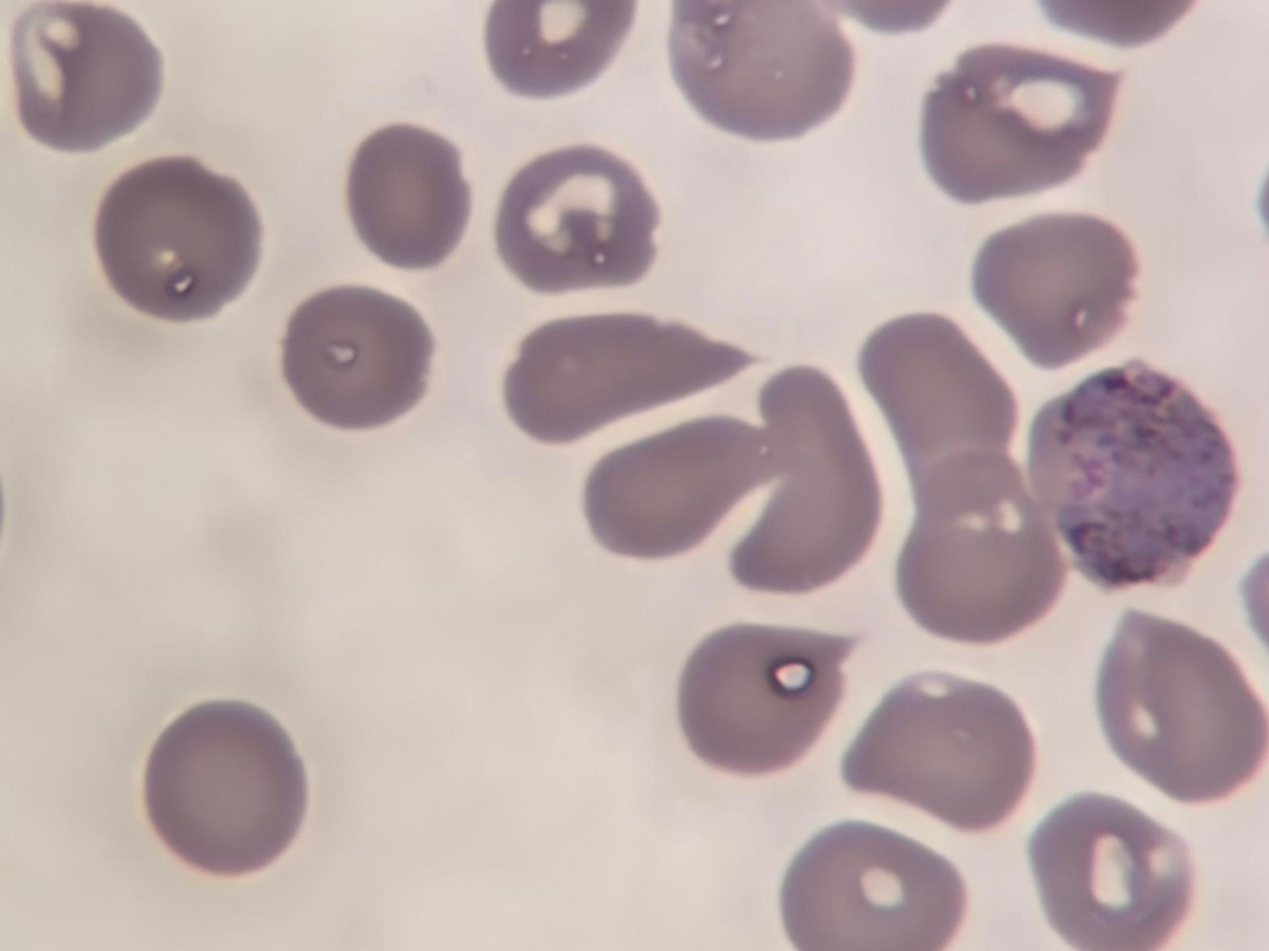Infected: (31, 362, 247, 599)
Uninfected: (382, 357, 534, 588), (0, 152, 178, 343), (519, 503, 764, 639), (210, 308, 373, 508), (149, 744, 348, 900), (254, 448, 412, 640), (238, 113, 422, 275), (486, 390, 686, 533), (965, 75, 1128, 249), (78, 0, 241, 163), (416, 175, 588, 328), (1010, 628, 1170, 792), (127, 584, 299, 736), (421, 808, 595, 951), (304, 0, 486, 130), (608, 656, 771, 800), (1110, 793, 1260, 948), (838, 522, 989, 665), (798, 681, 923, 825), (634, 853, 781, 951)
